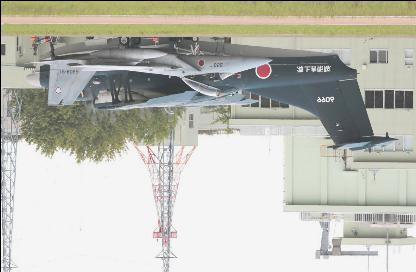F117: (22, 37, 272, 106)
Tu95: (24, 36, 398, 152)
